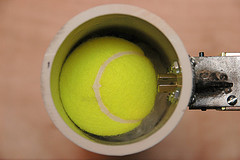tennis ball: (56, 35, 160, 140)
